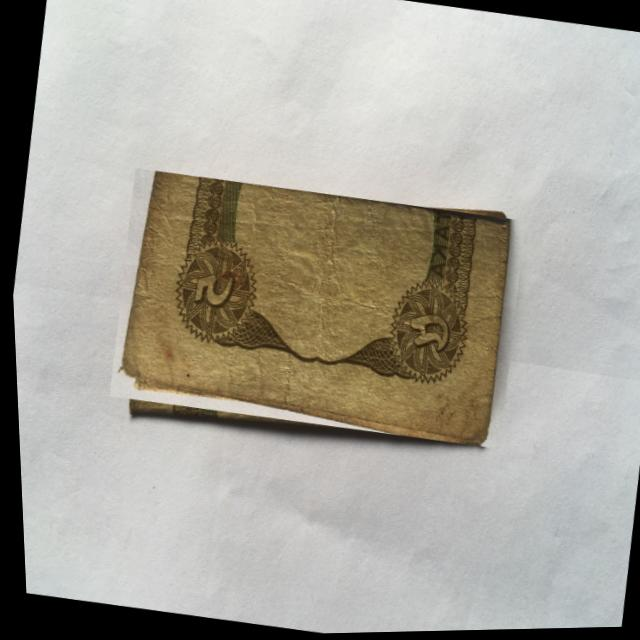Taka: (98, 163, 531, 458)
